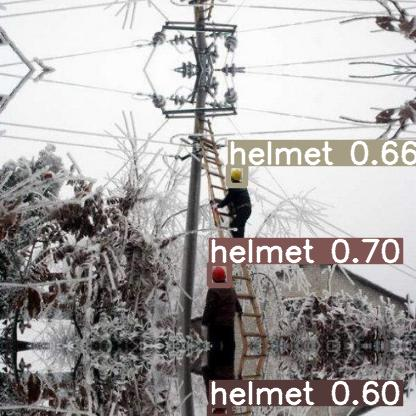helmet: (209, 263, 229, 285), (228, 165, 245, 185), (209, 405, 229, 416)
